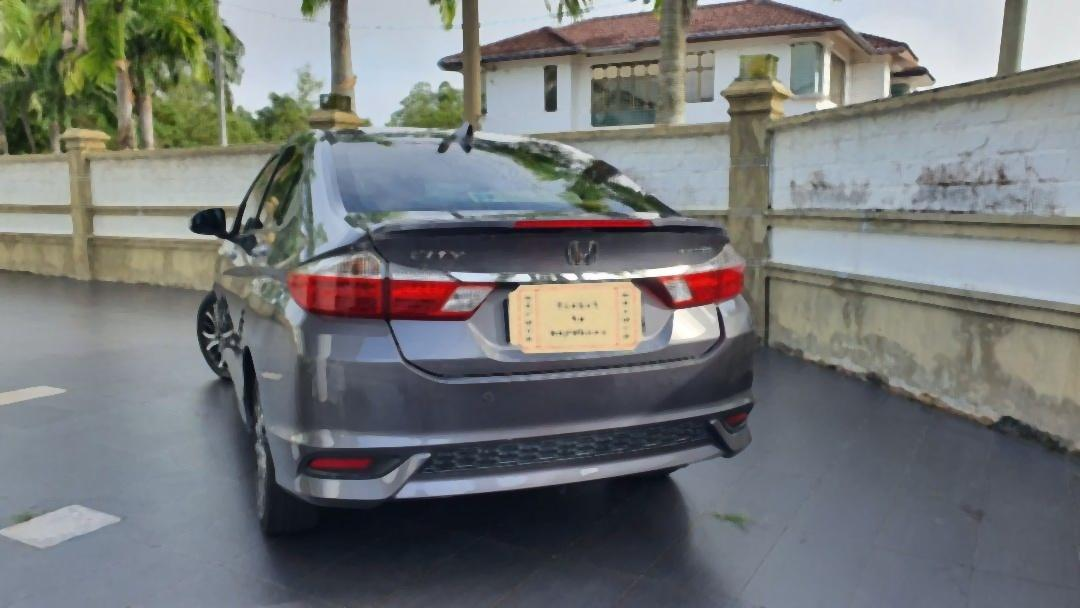Car boot: (345, 205, 726, 379)
Rear bumper: (262, 310, 770, 520)
Rear light - -L-: (281, 232, 500, 329)
Rear light - -R-: (629, 237, 756, 312)
Side mirror - -L-: (186, 195, 243, 249)
